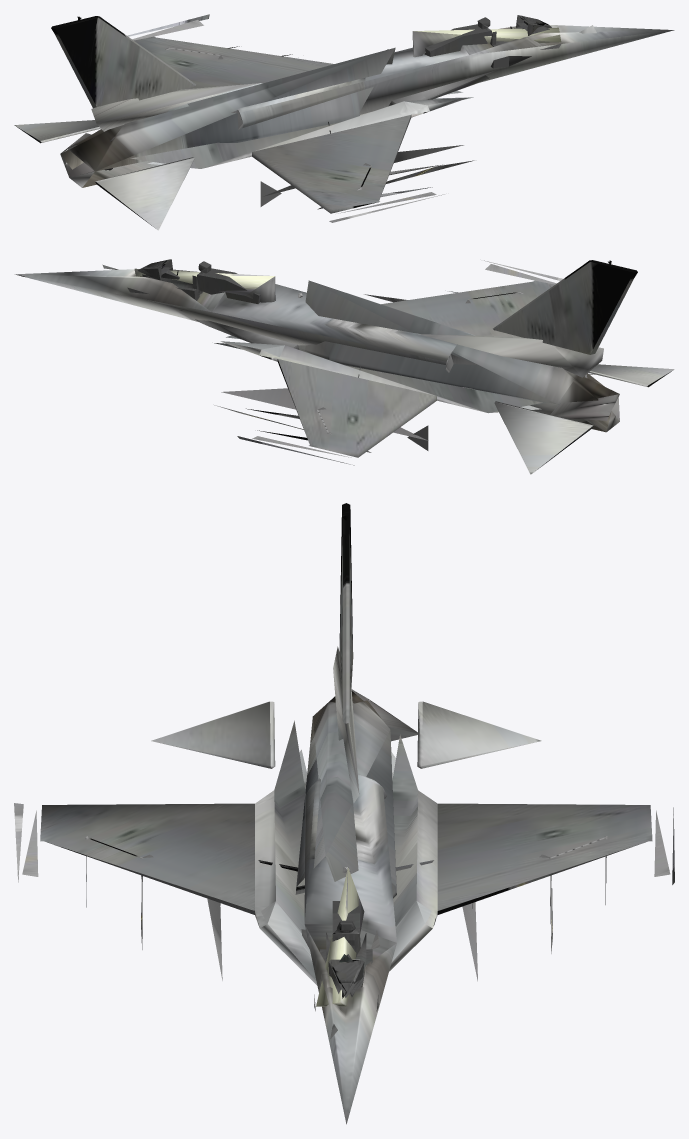
3 renders of one model, top to bottom at view 1: azimuth 30°, elevation 25°; view 2: azimuth 150°, elevation 25°; view 3: azimuth 270°, elevation 25°, orthographic. The views are drawn at different scales.
Parts seen in each view (by area): view 1: g_f16_hull; view 2: g_f16_hull; view 3: g_f16_hull.
Part boxes in pixels (x1,y1,x2,y2): g_f16_hull: (14,14,674,230); g_f16_hull: (15,259,674,474); g_f16_hull: (14,503,674,1124).
Size of the model in its own units: 14.95 by 4.35 by 10.12.
Materials: 1 (1 with a texture image).
